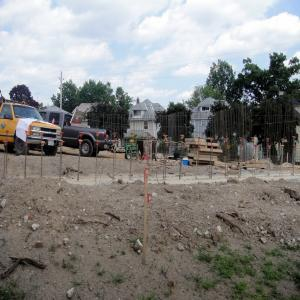Vehicle-registration-plate: (49, 141, 55, 147)
